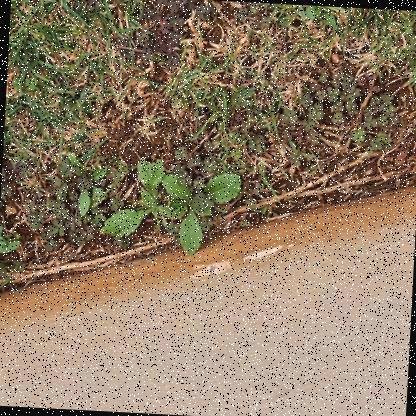Weeds: (159, 163, 243, 258), (98, 156, 189, 240)
